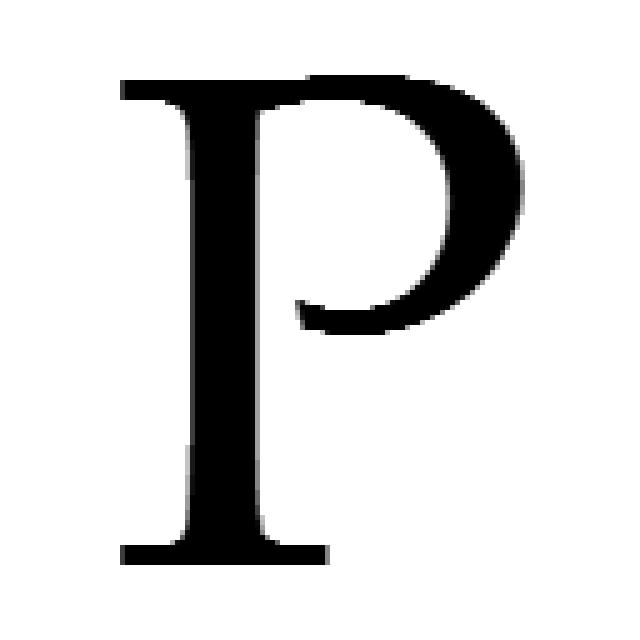P: (120, 75, 525, 570)
